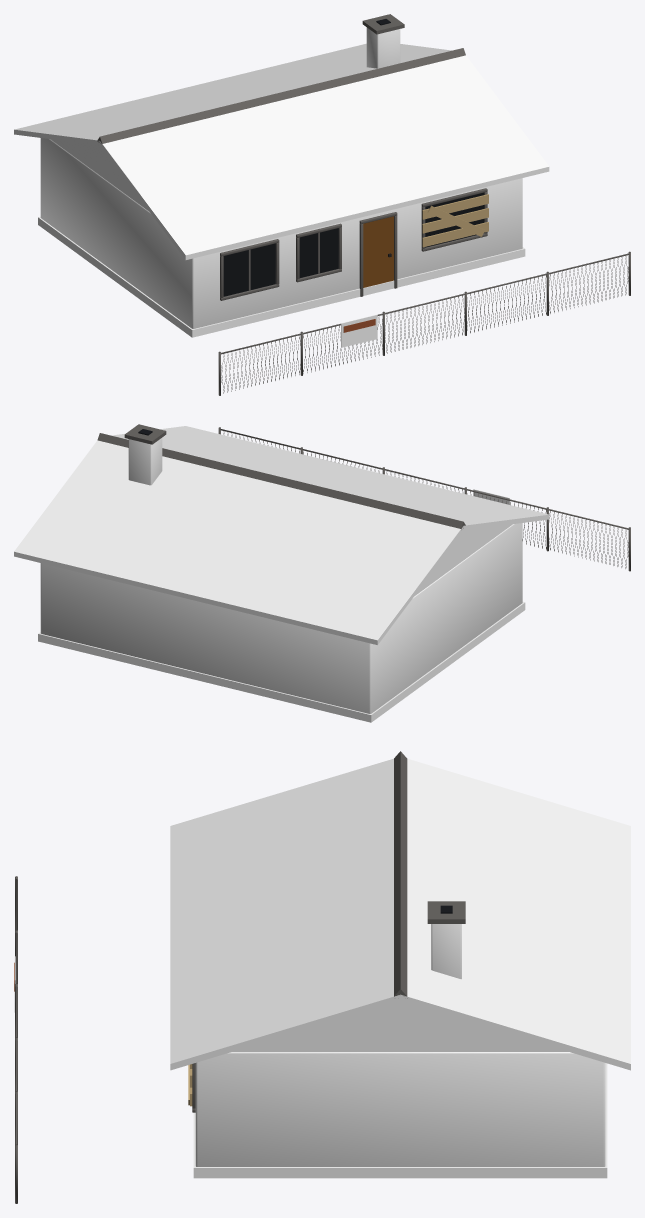
Rendered from bld_ranch_plain.glb.
3 views of the same model, one above another, from view 1: azimuth 30°, elevation 25°; view 2: azimuth 150°, elevation 25°; view 3: azimuth 270°, elevation 25° (orthographic). The views are drawn at different scales.
Visible parts, largest first — view 1: rp_roof_front, rp_walls, rp_roof_back, rp_footing, rp_roof_cap, rp_win0, rp_door, rp_win1, rp_roof_gable, rp_chim, rp_fence_rail, rp_fence_sign (+4 smaller); view 2: rp_roof_back, rp_walls, rp_roof_front, rp_footing, rp_roof_cap, rp_roof_gable, rp_chim, rp_fence_rail, rp_chim_cap; view 3: rp_roof_front, rp_roof_back, rp_walls, rp_roof_gable, rp_footing, rp_roof_cap, rp_chim, rp_chim_cap, rp_fence_rail.
Boxes of the visible parts, bbox=[...] form: rp_roof_front: bbox=[100, 55, 549, 259]; rp_walls: bbox=[40, 138, 522, 328]; rp_roof_back: bbox=[14, 43, 451, 145]; rp_footing: bbox=[38, 216, 525, 337]; rp_roof_cap: bbox=[97, 48, 465, 143]; rp_win0: bbox=[223, 243, 275, 296]; rp_door: bbox=[363, 216, 393, 287]; rp_win1: bbox=[299, 228, 338, 277]; rp_roof_gable: bbox=[51, 139, 148, 210]; rp_chim: bbox=[366, 27, 400, 68]; rp_fence_rail: bbox=[221, 253, 629, 354]; rp_fence_sign: bbox=[341, 314, 377, 347]; rp_roof_back: bbox=[14, 440, 463, 644]; rp_walls: bbox=[40, 523, 522, 713]; rp_roof_front: bbox=[112, 426, 549, 530]; rp_footing: bbox=[38, 601, 525, 722]; rp_roof_cap: bbox=[97, 433, 465, 529]; rp_roof_gable: bbox=[414, 524, 512, 596]; rp_chim: bbox=[128, 438, 162, 485]; rp_fence_rail: bbox=[220, 429, 628, 529]; rp_chim_cap: bbox=[124, 424, 166, 444]; rp_roof_front: bbox=[170, 758, 400, 1070]; rp_roof_back: bbox=[400, 758, 630, 1070]; rp_walls: bbox=[195, 1052, 605, 1166]; rp_roof_gable: bbox=[232, 1001, 568, 1051]; rp_footing: bbox=[193, 1063, 607, 1178]; rp_roof_cap: bbox=[394, 751, 407, 998]; rp_chim: bbox=[431, 924, 461, 979]; rp_chim_cap: bbox=[427, 901, 465, 923]; rp_fence_rail: bbox=[15, 879, 17, 1144].
Bounding box in the file's own units: 12.46 × 5.13 × 12.05.
